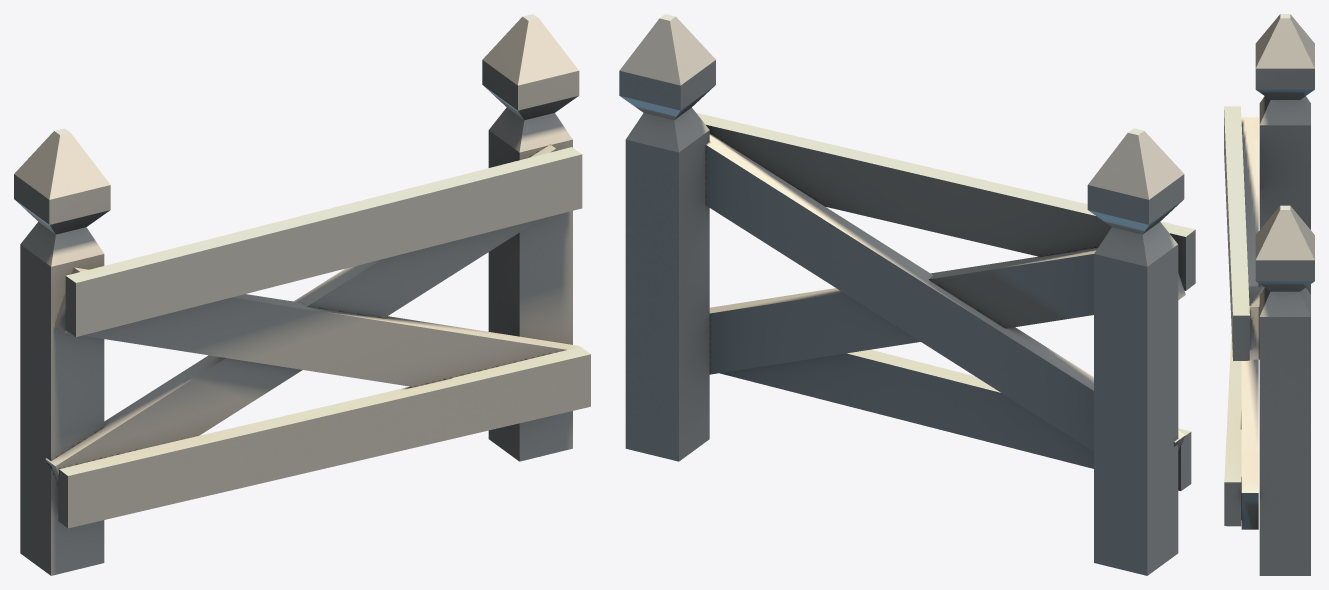
The picture shows the model from 3 angles, left to right: view 1: azimuth 30°, elevation 25°; view 2: azimuth 150°, elevation 25°; view 3: azimuth 270°, elevation 25°; orthographic projection. The views are drawn at different scales.
Visible parts, largest first — view 1: fence; view 2: fence; view 3: fence.
Boxes of the visible parts, left/top/right/bottom form: fence: left=14, top=14, right=590, bottom=575; fence: left=619, top=14, right=1195, bottom=575; fence: left=1224, top=14, right=1314, bottom=575.
Bounding box in the file's own units: 1.7 × 1.31 × 0.3013.
Materials: 1 (1 with a texture image).
